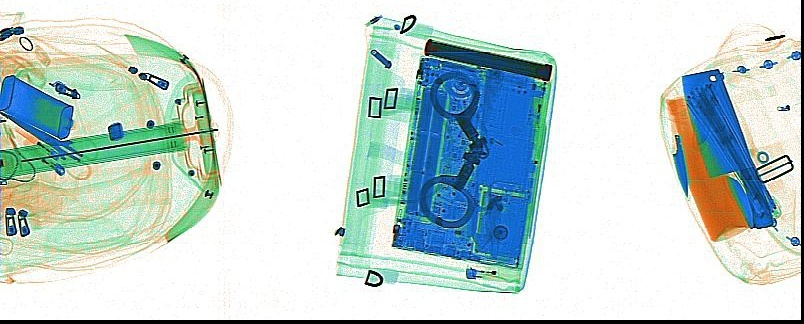handcuffs: (419, 66, 488, 231)
knife: (679, 66, 777, 235), (718, 171, 765, 231), (663, 97, 690, 201)
lighter: (21, 135, 68, 176), (463, 264, 518, 281)
scissors: (1, 100, 98, 182)
zippooil: (1, 74, 75, 141)
